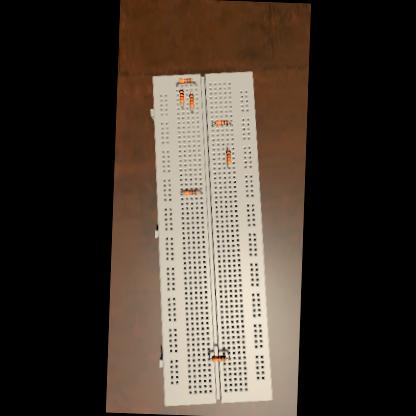breadboard: (140, 68, 284, 410)
resistor: (212, 355, 226, 362), (178, 90, 184, 104), (179, 78, 192, 84), (226, 150, 231, 164), (188, 94, 193, 108), (184, 190, 198, 195), (216, 120, 228, 125)
wire: (226, 353, 230, 359), (208, 353, 212, 359), (193, 81, 196, 86), (212, 123, 214, 127), (176, 82, 178, 86), (229, 122, 231, 125), (181, 103, 182, 109), (191, 108, 192, 113), (228, 164, 229, 167), (198, 192, 201, 193), (228, 148, 229, 150), (190, 92, 192, 93), (180, 194, 182, 194), (180, 88, 182, 88)
